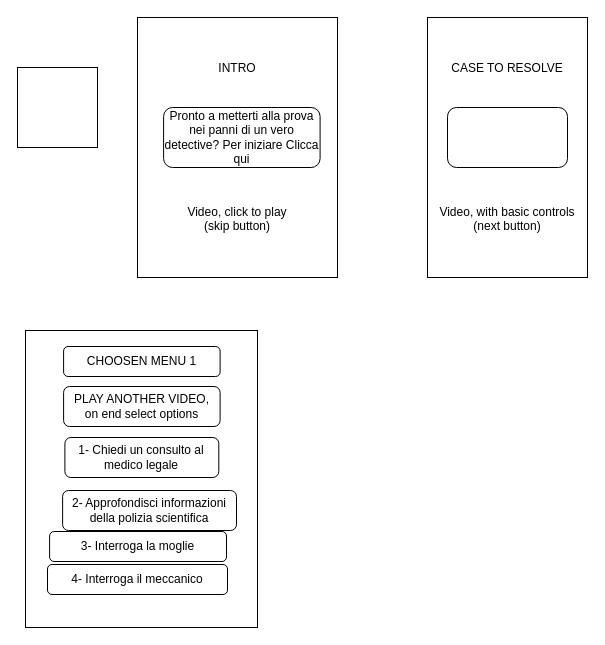
This 605x645 diagram has some shape labels left out. Here are the shapes that lost their labels. From the top down, the centre of each, then its label:
[57,107]: SPLASH credits click to start
[507,137]: Avvia la presentazione del caso da risolvere
